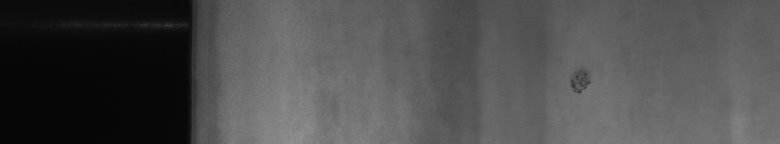fi: (565, 68, 596, 100)
